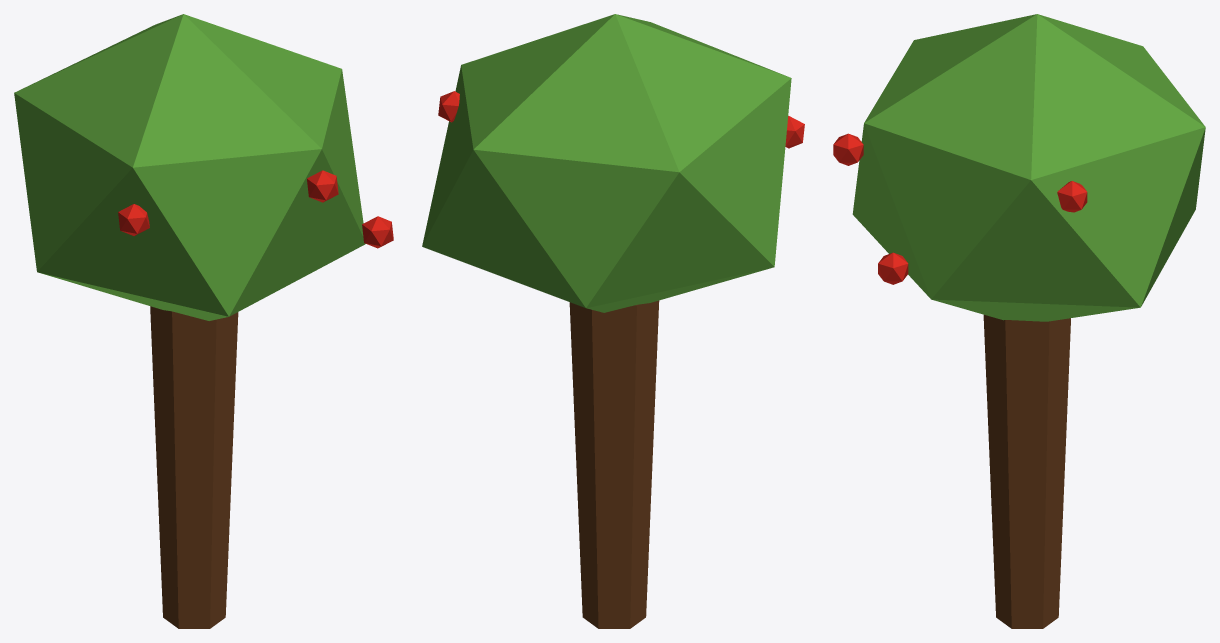
Rendered from garden2_apple_tree.glb.
The picture shows the model from 3 angles, left to right: view 1: azimuth 30°, elevation 25°; view 2: azimuth 150°, elevation 25°; view 3: azimuth 270°, elevation 25°; orthographic projection.
Visible parts, largest first — view 1: apple_tree; view 2: apple_tree; view 3: apple_tree.
Part boxes in pixels (bbox=[...]): apple_tree: bbox=[14, 14, 393, 628]; apple_tree: bbox=[422, 14, 804, 628]; apple_tree: bbox=[833, 14, 1205, 628].
Size of the model in its own units: 0.7927 by 1.48 by 0.8326.
